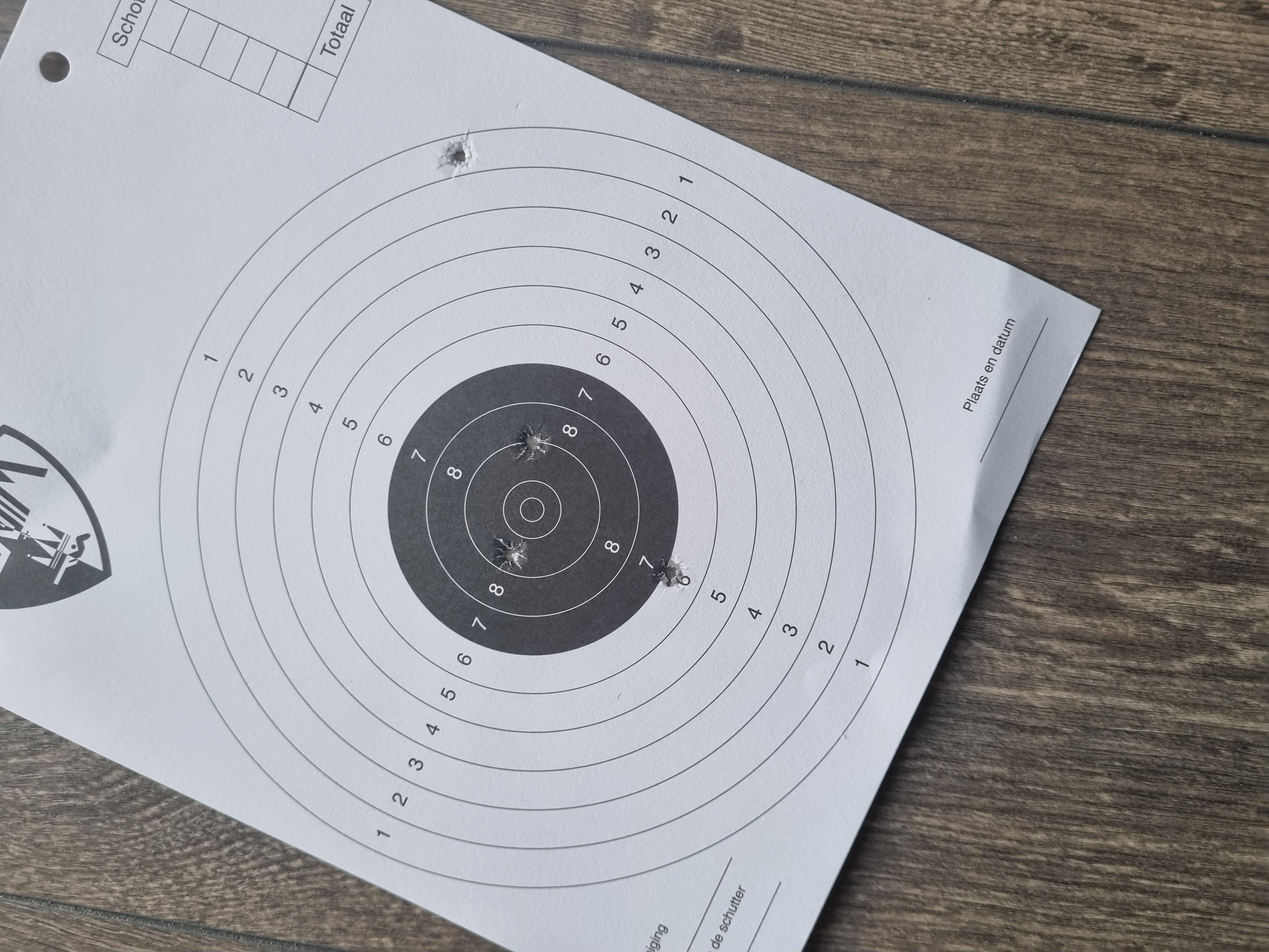hole: (1038, 329, 1092, 358), (505, 367, 556, 397), (651, 386, 703, 413), (484, 487, 530, 514)
